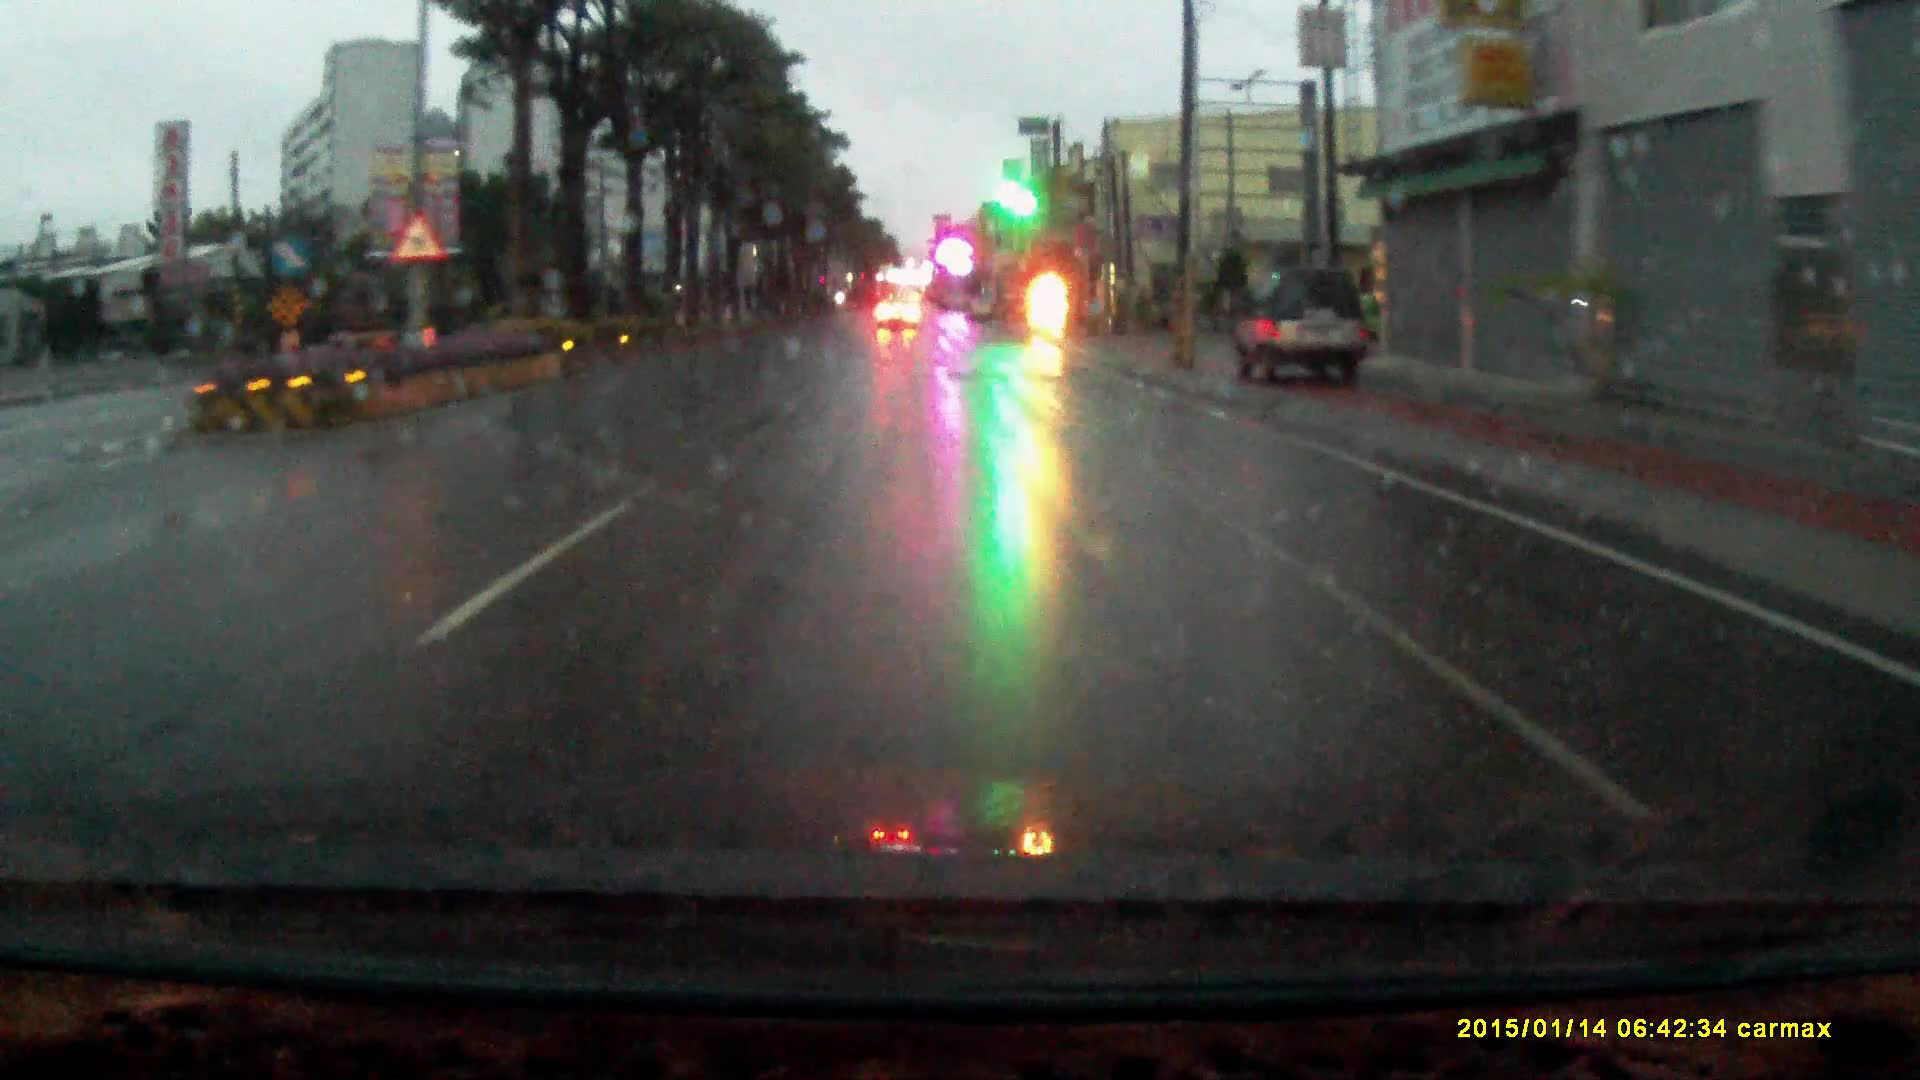vehicle: (1230, 262, 1379, 388), (874, 286, 920, 323)
